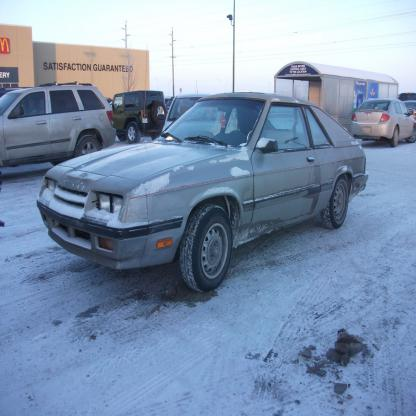Car: (0, 80, 416, 296)
